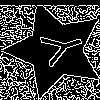Y: (30, 25, 87, 71)
